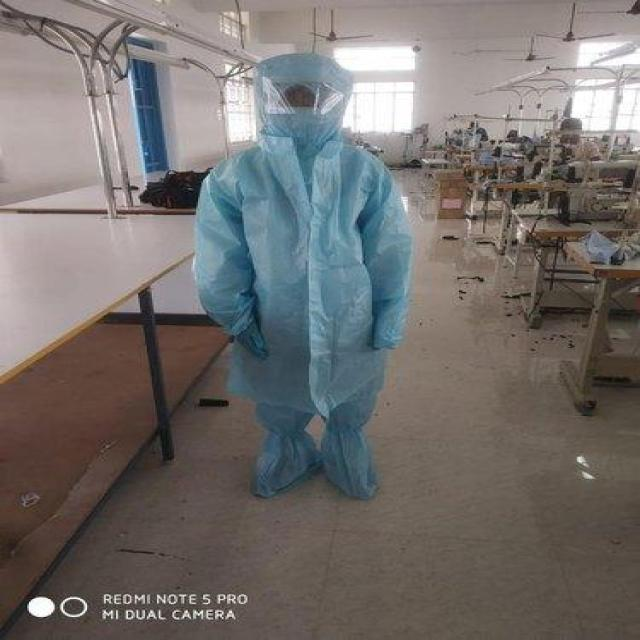Coverall: (188, 50, 434, 504)
Gloves: (372, 298, 411, 357), (232, 323, 277, 365)
